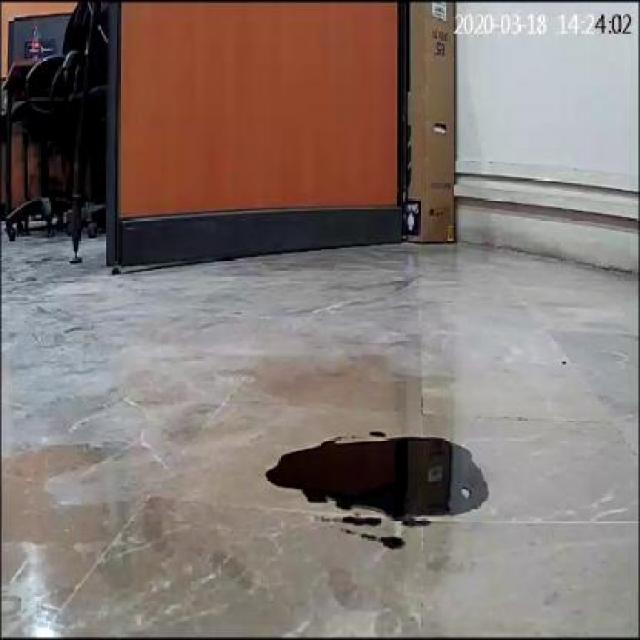spill: (259, 427, 492, 522)
